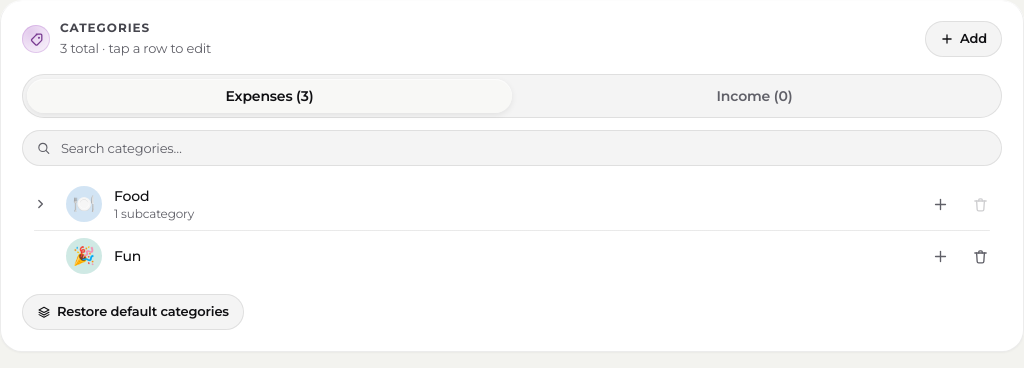
Test: CategoriesCard › searches the categories and says when a kind has none
The width and height of the screenshot is (1024, 368).
In the search field with placeholder "Search categories…": coordinates (512, 148) [22, 130, 1002, 166], type "zzz"
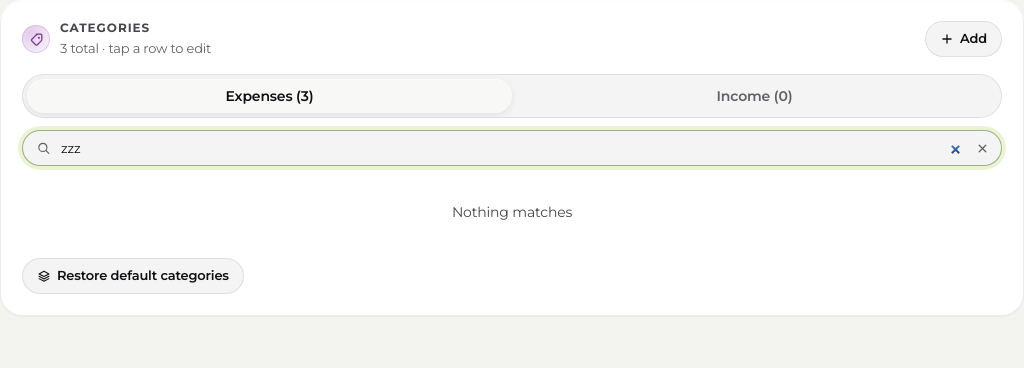
Expected: the list item "Nothing matches" is shown, [452, 203, 572, 221]
Clear the search field with placeholder "Search categories…": coordinates (512, 148) [22, 130, 1002, 166]
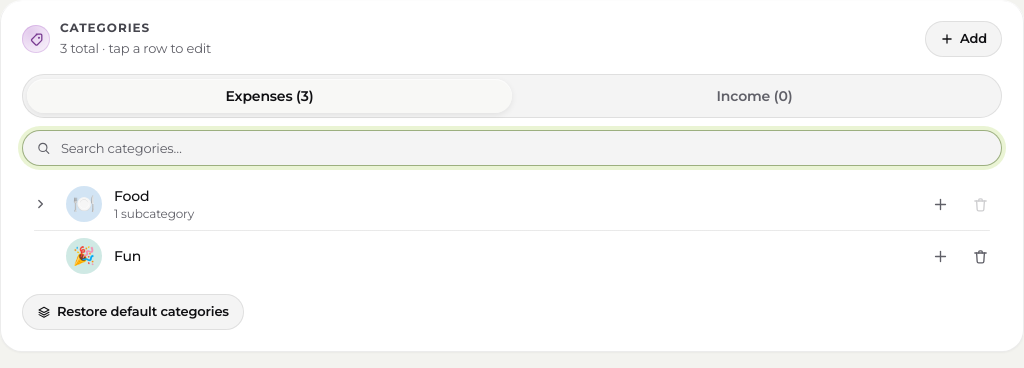
Click the radio button labelled "Income (0)": coordinates (754, 96) [717, 86, 792, 104]
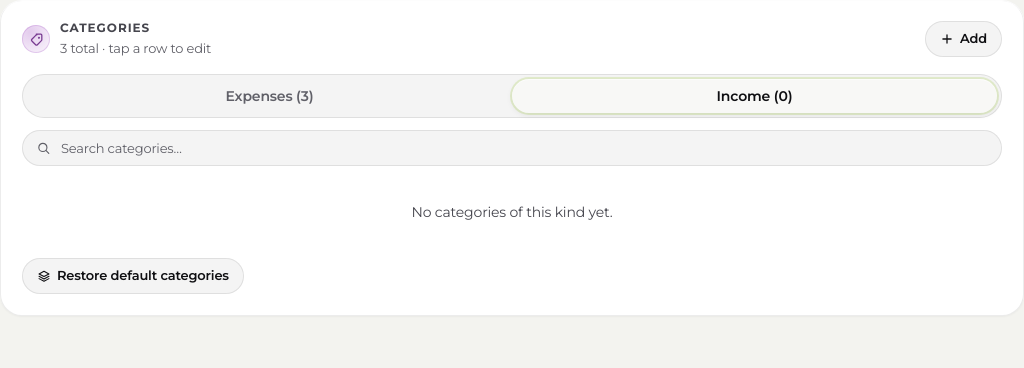
Expected: the list item "No categories of this kind yet." is shown, [412, 203, 612, 221]
